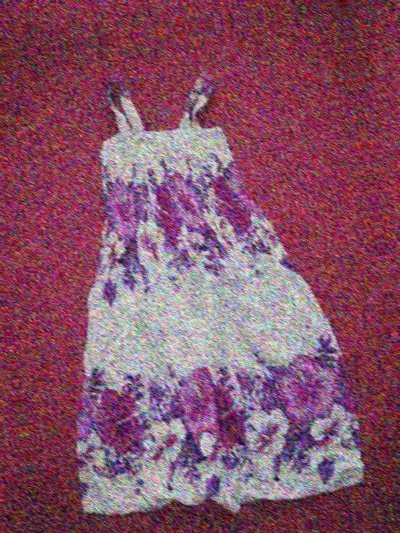Dress: (3, 51, 391, 533), (378, 0, 400, 483), (0, 110, 11, 533), (0, 0, 309, 13), (78, 532, 400, 533)
